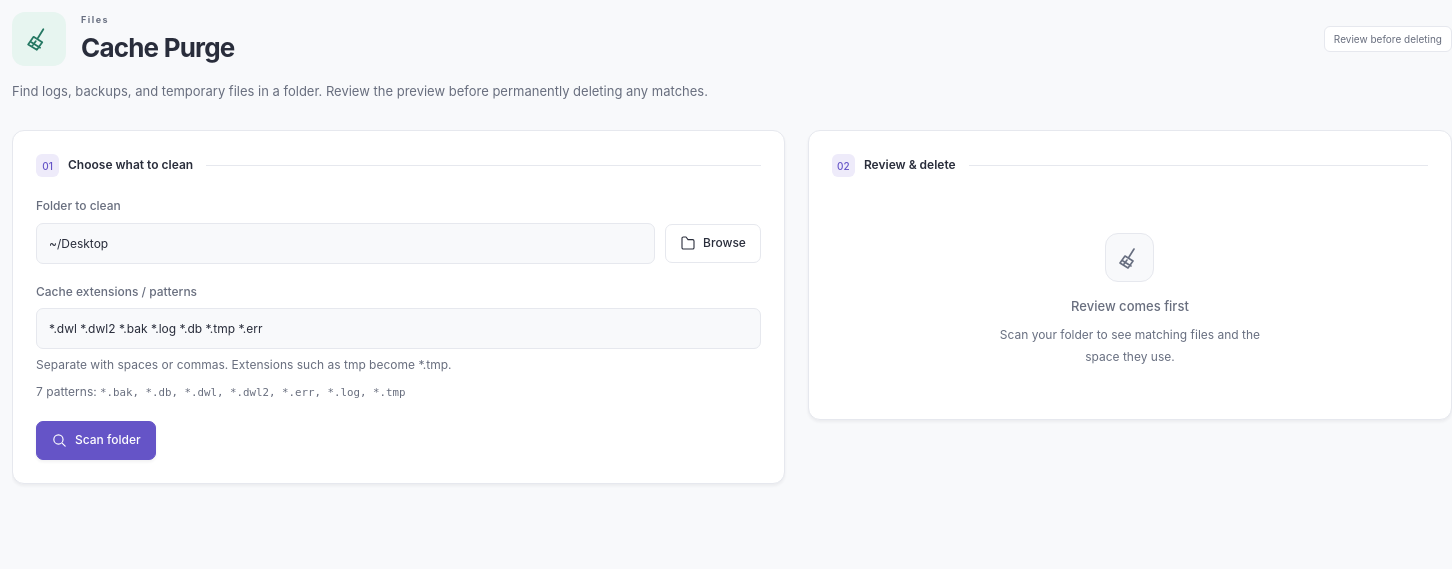
handles a rejected delete with status 503
Click the button "Scan folder" at x=96, y=440, box [36,421,156,460]
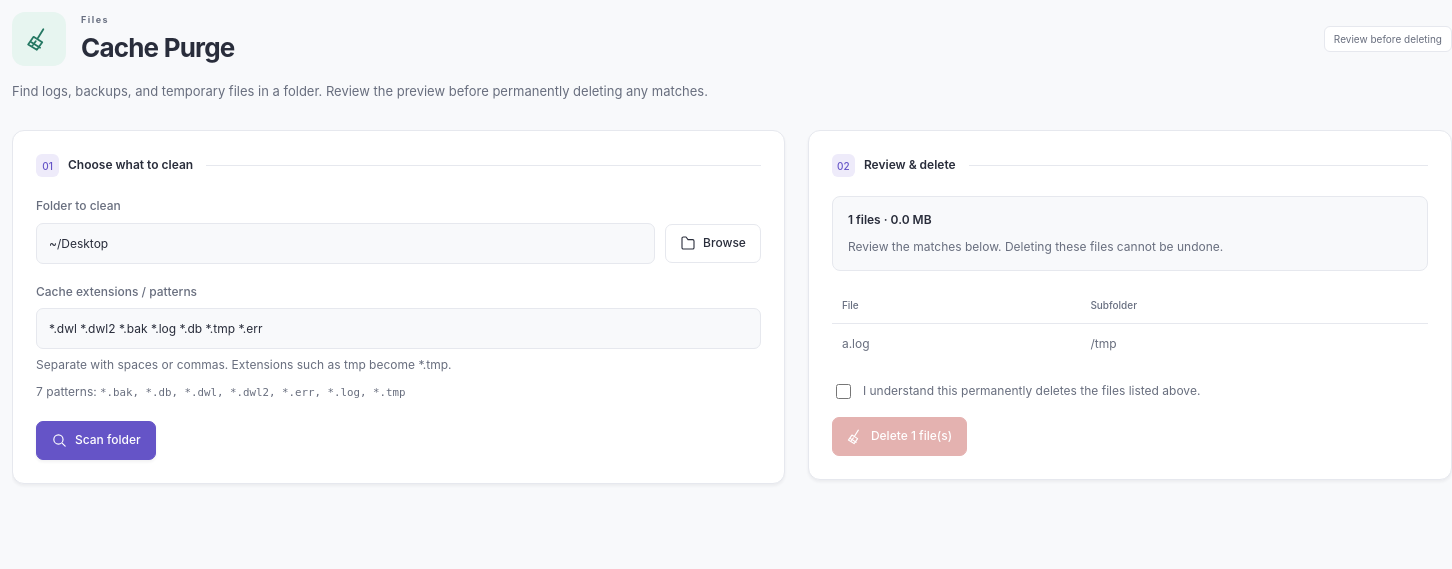
Now the text "a.log" is shown, box [832,324,1080,363]
Click the checkbox at x=843, y=391, box [836,384,851,399]
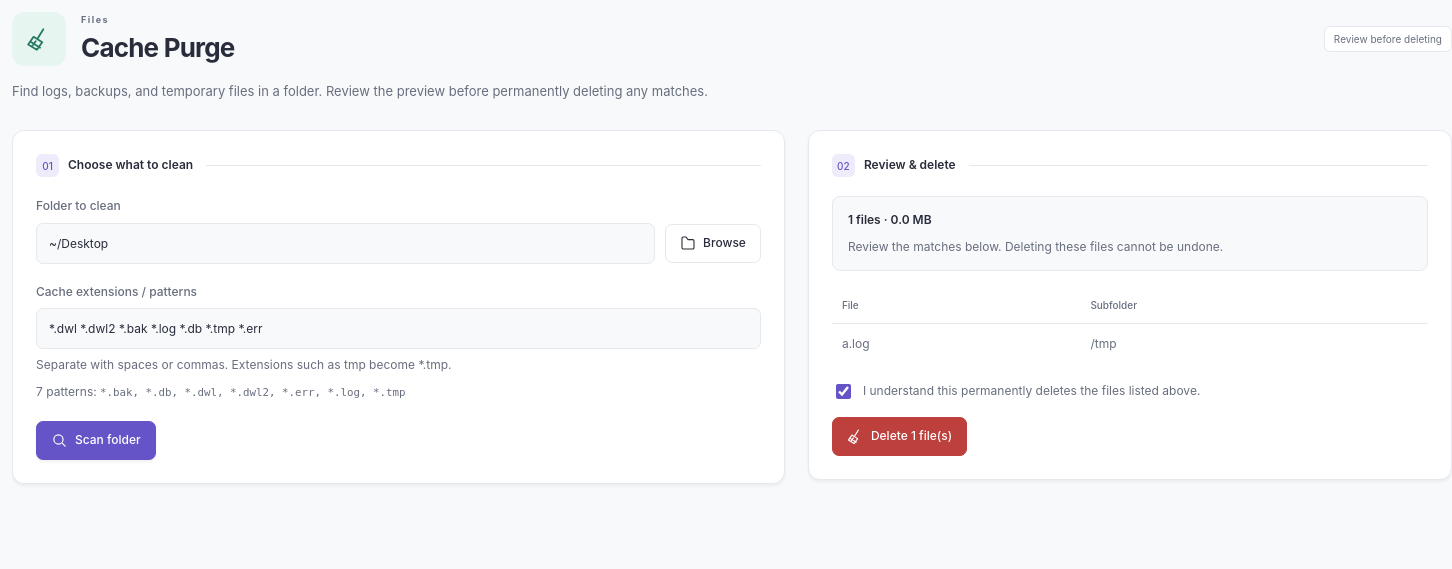
Click the button "Delete 1 file(s)" at x=900, y=437, box [832,417,967,456]
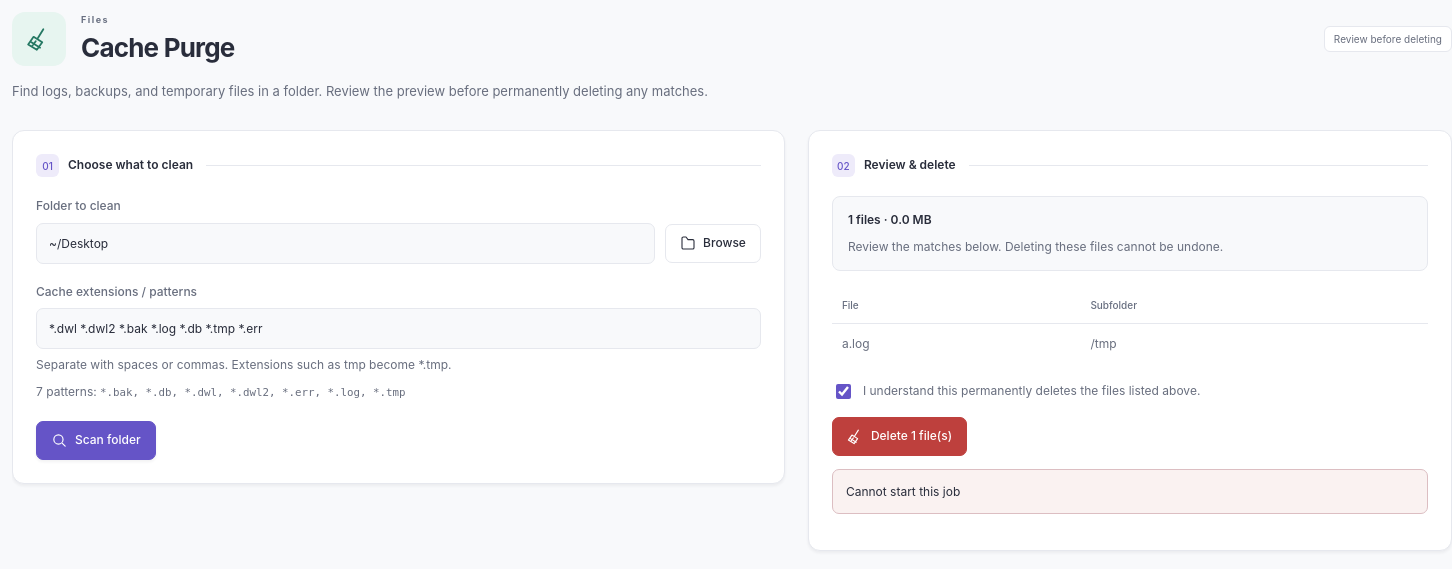
Now the button "Delete 1 file(s)" is enabled, box [832,417,967,456]
Now the text "Cannot start this job" is shown, box [832,469,1428,514]
